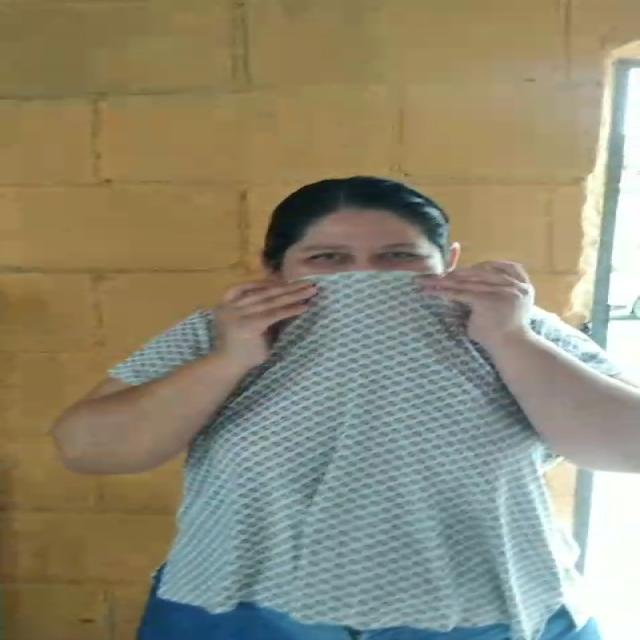8_ropa_rostro: (227, 259, 517, 376)
